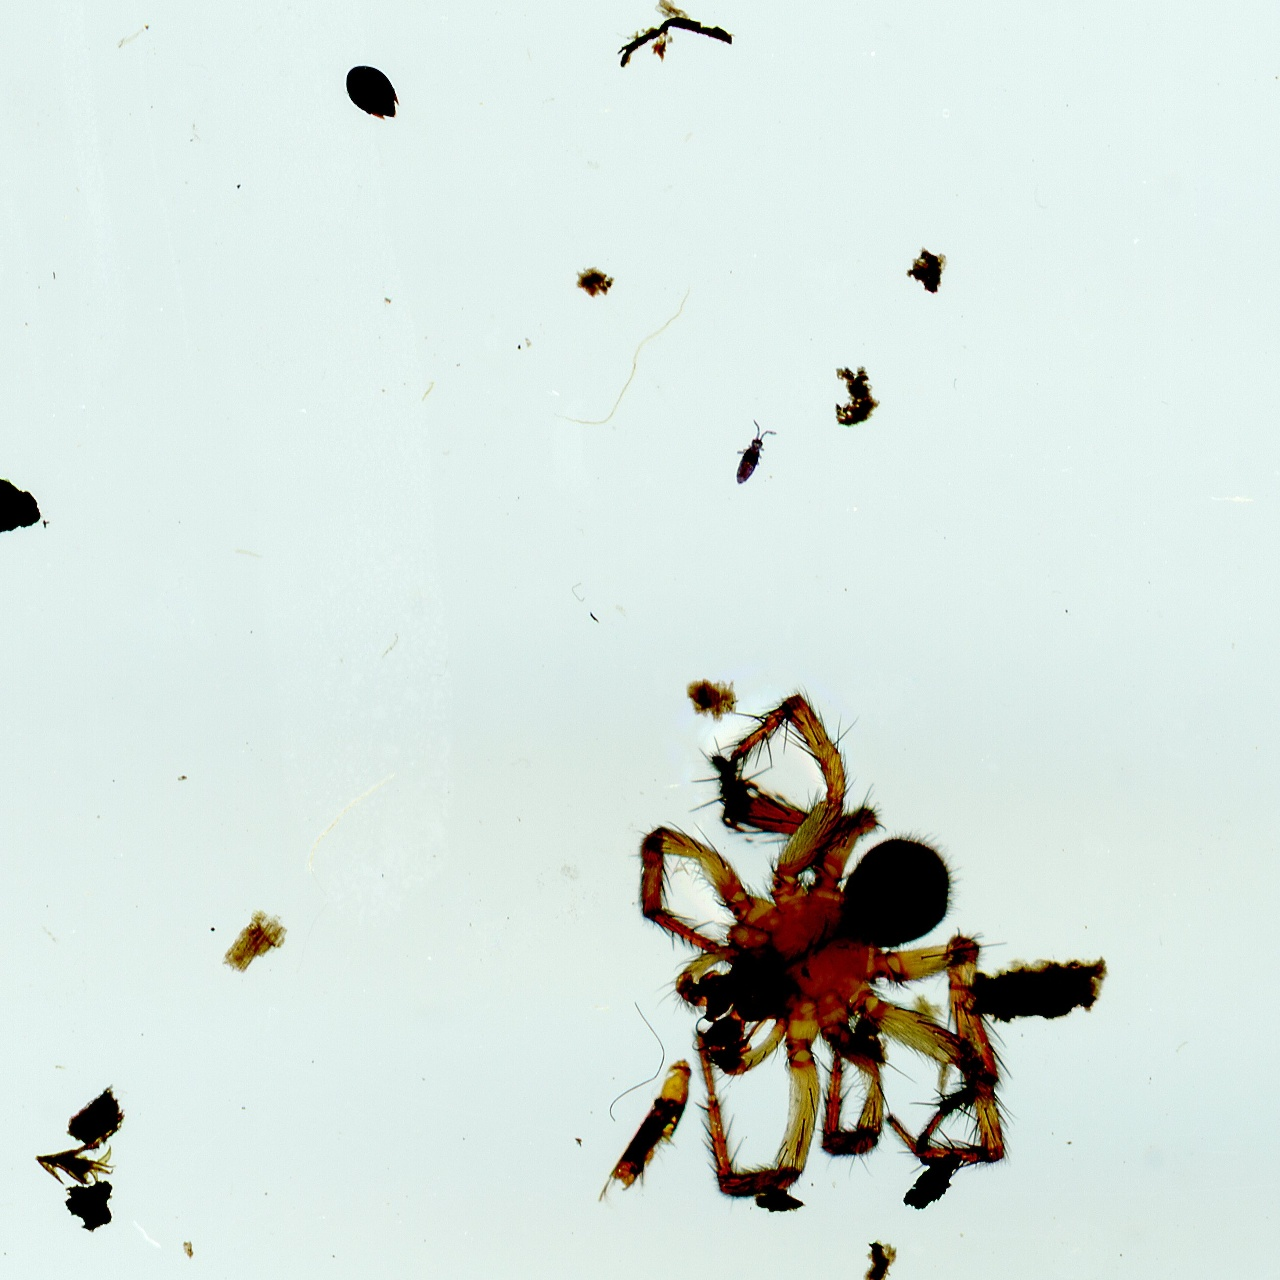arthropod: (621, 670, 1031, 1222), (724, 414, 783, 494), (343, 62, 401, 122)
